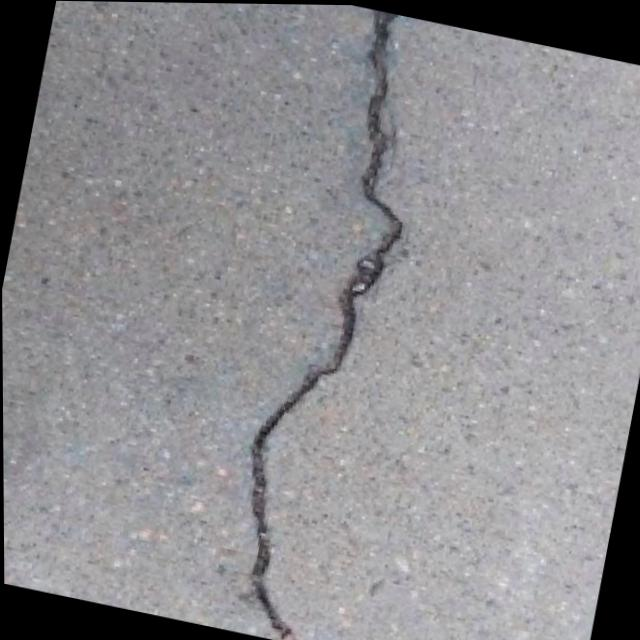Crack: (184, 2, 470, 640)
